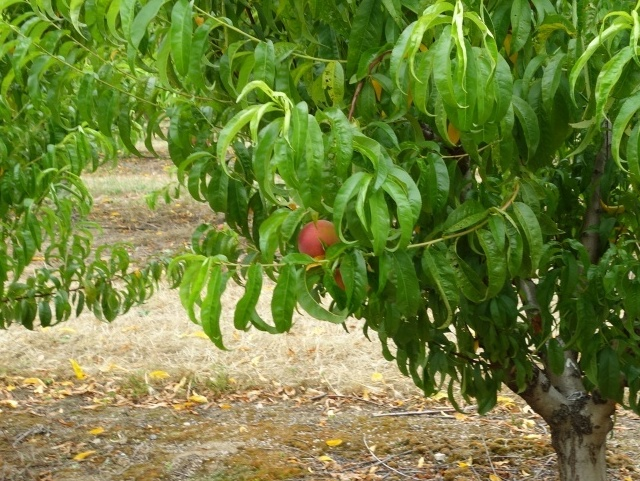peach: (293, 218, 346, 263)
